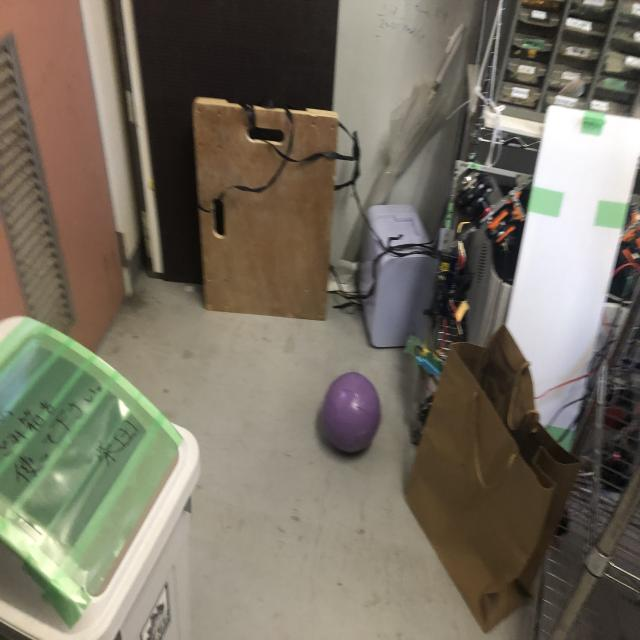purple_ball: (321, 371, 381, 452)
